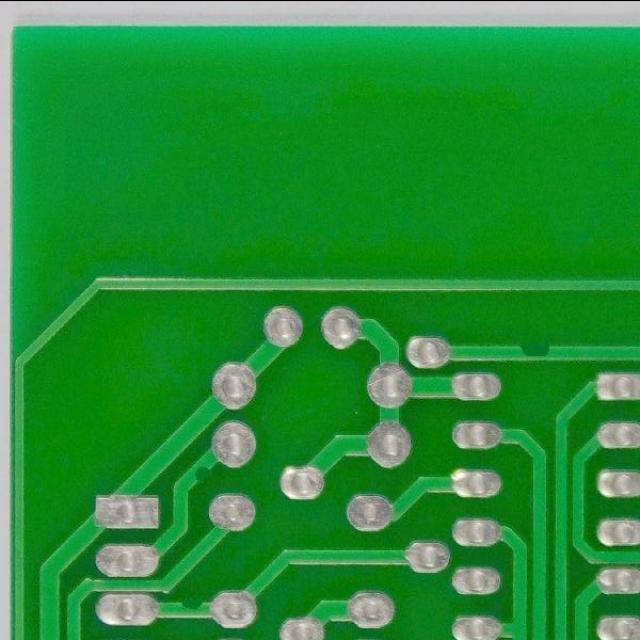mouse_bite: (516, 338, 557, 367), (190, 458, 217, 488), (178, 594, 204, 621)
